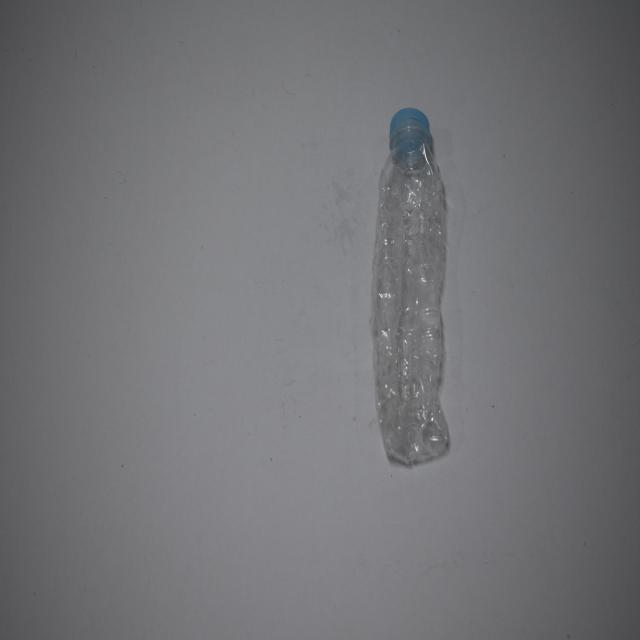empty: (370, 108, 449, 465)
